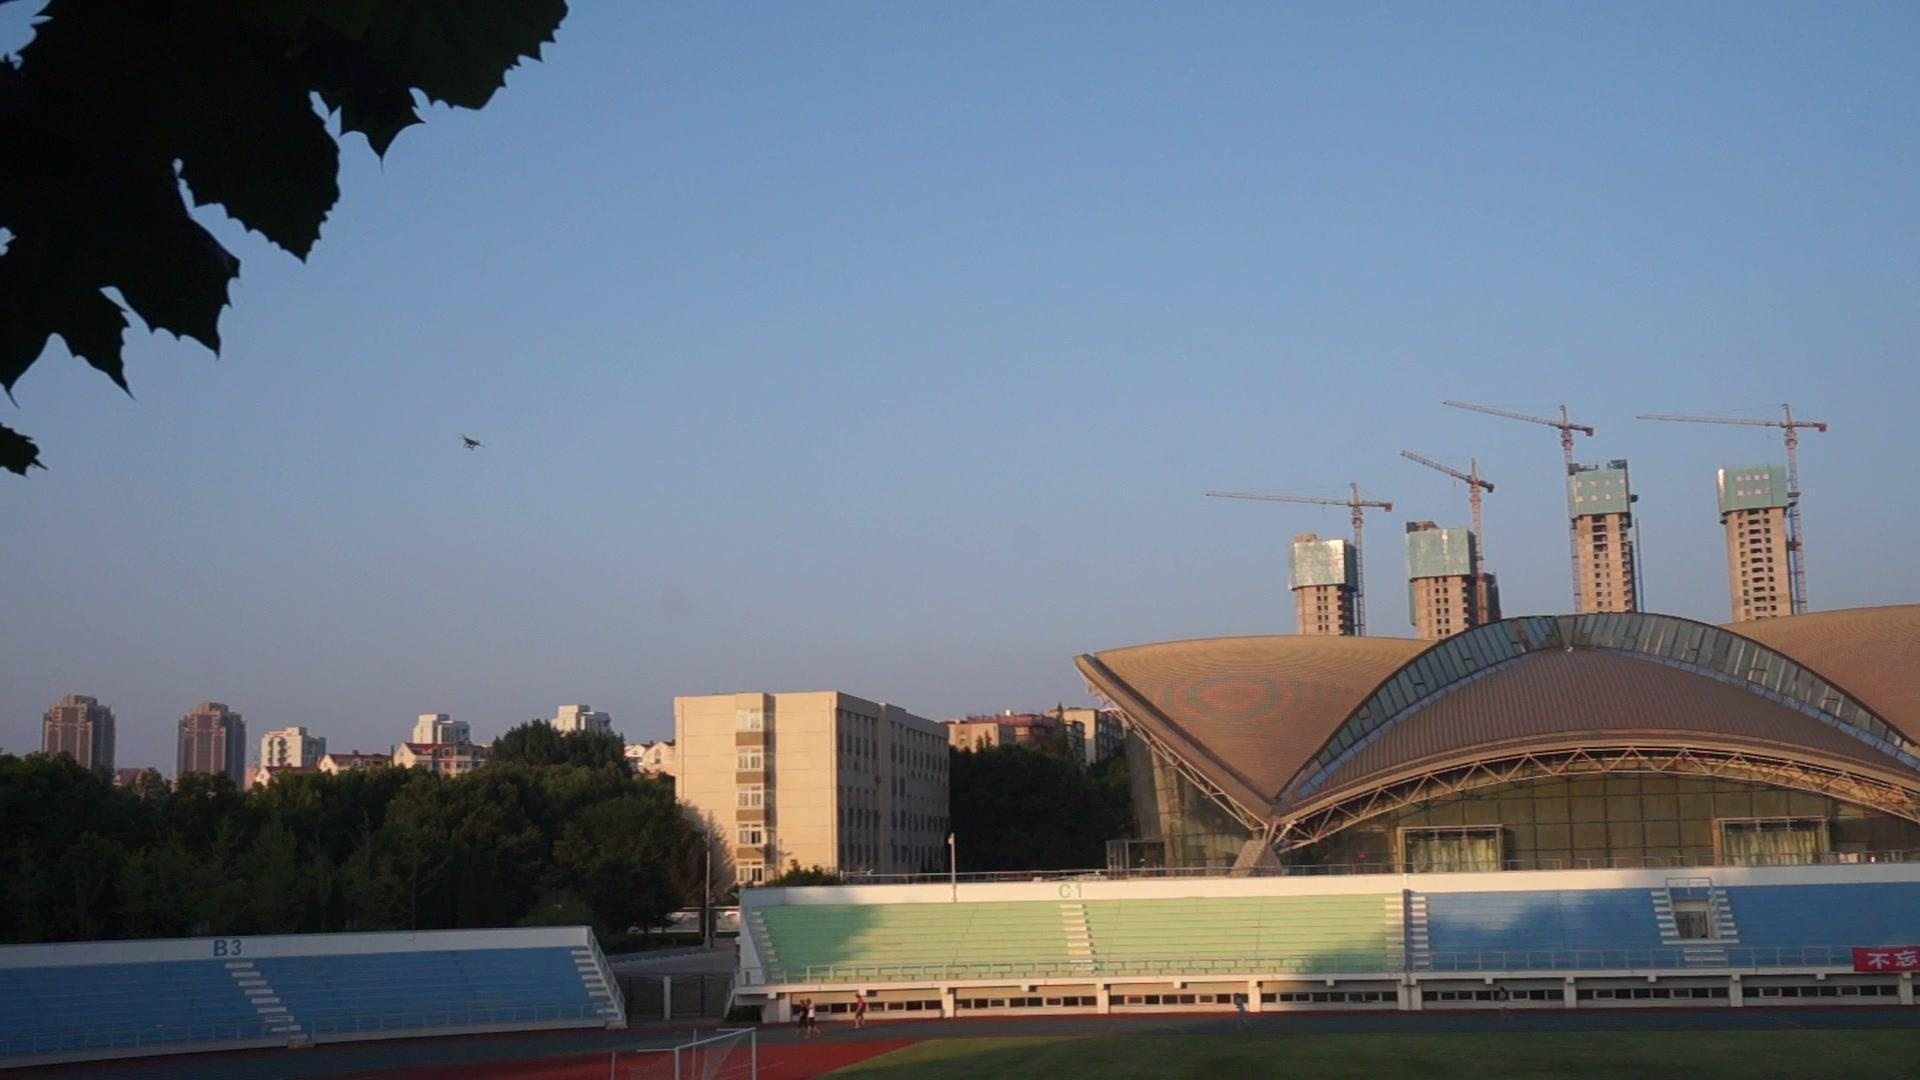UAV: (459, 434, 487, 452)
